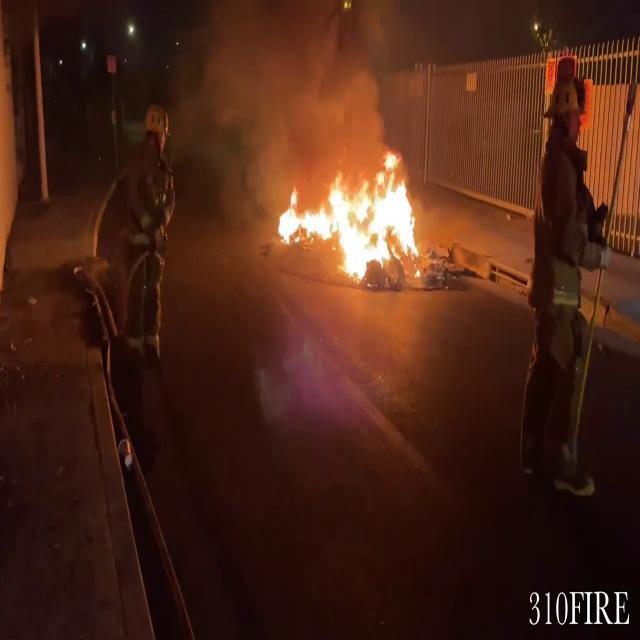Fire: (266, 150, 428, 286)
Smoke: (166, 1, 392, 175)
